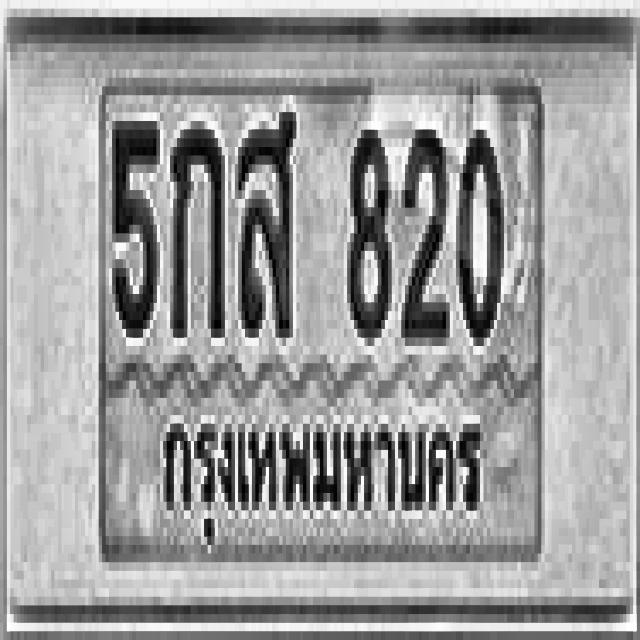license-plate: (8, 24, 628, 606)
